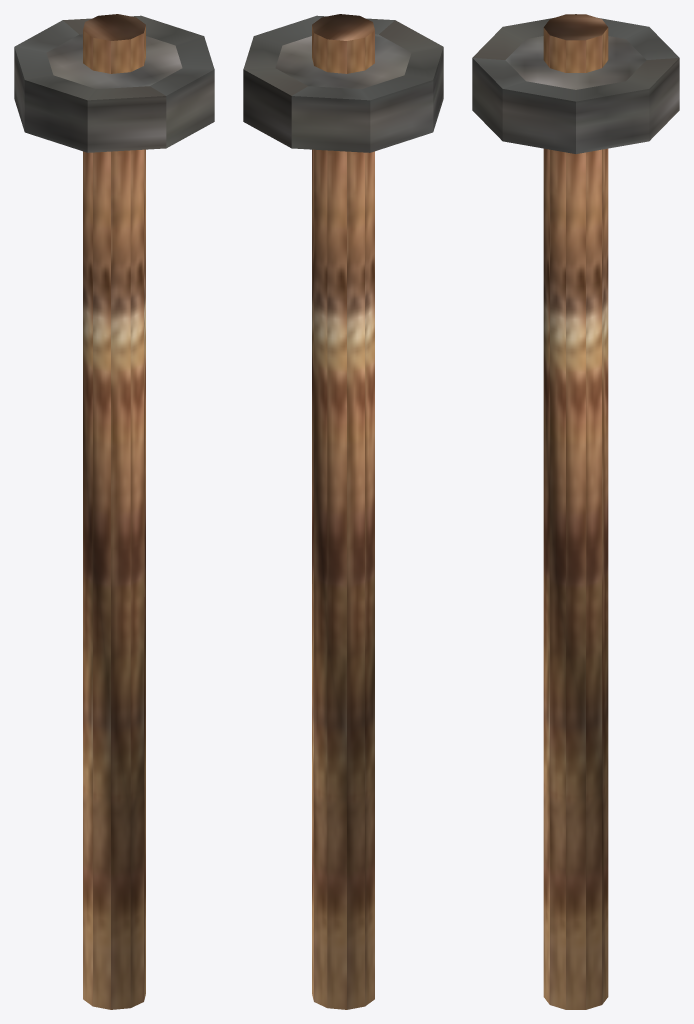
File: inca_mace_3.dae
3 views of the same model, side by side, from view 1: azimuth 30°, elevation 25°; view 2: azimuth 150°, elevation 25°; view 3: azimuth 270°, elevation 25° (orthographic).
Visible parts, largest first — view 1: club_redondo; view 2: club_redondo; view 3: club_redondo.
Part boxes in pixels (x1,y1,x2,y2): club_redondo: (14,14,214,1009); club_redondo: (243,14,443,1009); club_redondo: (472,14,679,1009).
Size of the model in its own units: 0.3601 by 0.3601 by 1.86.
